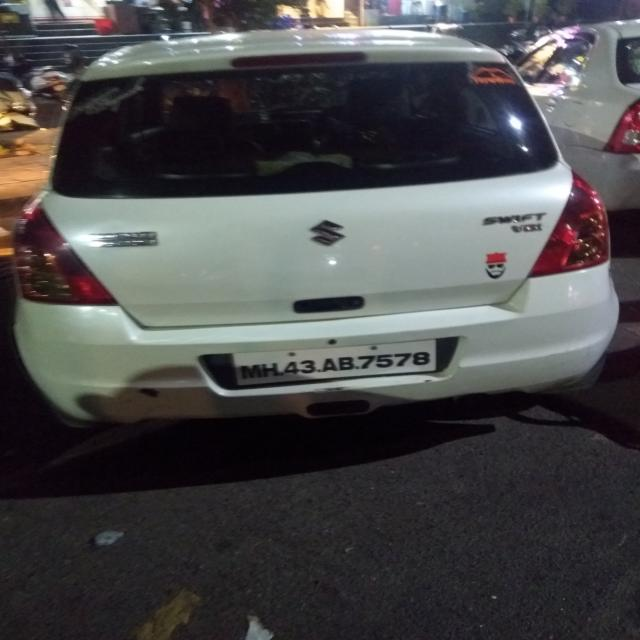Number-Plate: (237, 348, 441, 386)
